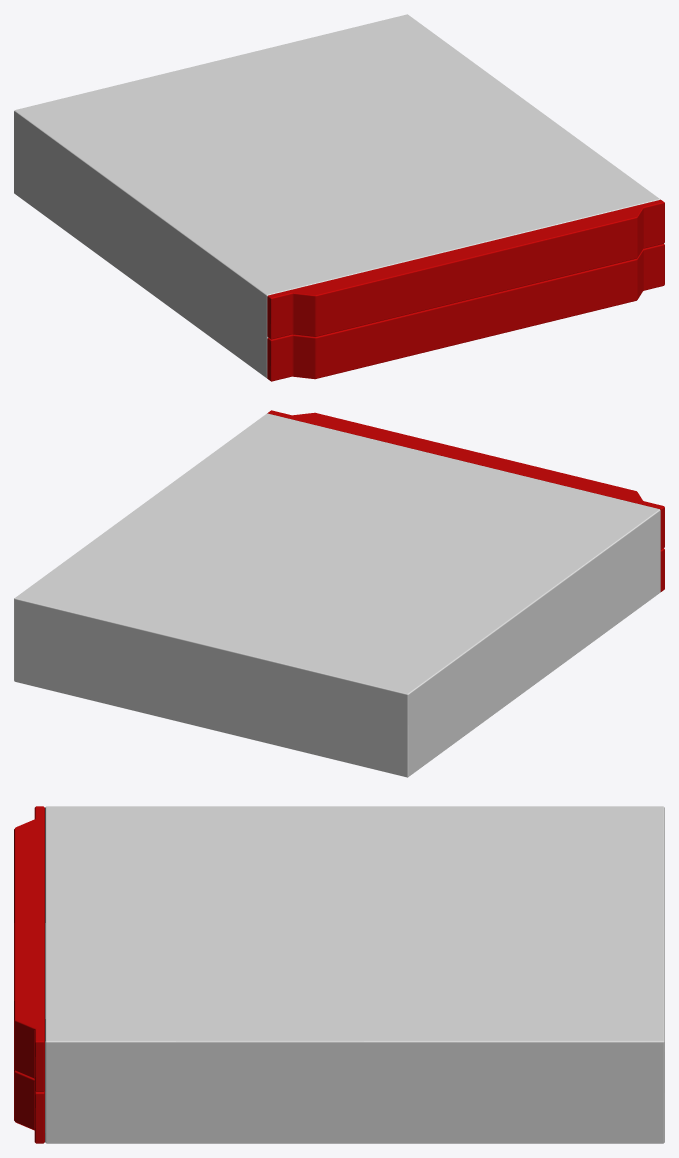
Rendered from ServerBay02.fbx.
3 renders of one model, top to bottom at view 1: azimuth 30°, elevation 25°; view 2: azimuth 150°, elevation 25°; view 3: azimuth 270°, elevation 25°, orthographic. The views are drawn at different scales.
Parts seen in each view (by area): view 1: ServerBay02; view 2: ServerBay02; view 3: ServerBay02.
Part boxes in pixels (x1=…): ServerBay02: x1=14, y1=14, x2=664, y2=381; ServerBay02: x1=14, y1=410, x2=664, y2=777; ServerBay02: x1=14, y1=806, x2=664, y2=1143.
Size of the model in its own units: 67.5 by 13.75 by 78.75.
